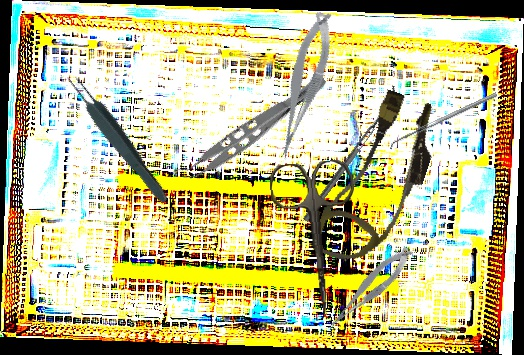Cannula: (310, 82, 448, 277)
Iris Scissors: (268, 158, 365, 321)
Micro Scissor: (259, 7, 347, 163), (318, 242, 421, 333)
Spatula Surgical: (297, 84, 403, 223), (387, 92, 500, 151)
Tissue Forceps: (174, 63, 330, 190), (62, 68, 174, 208)
